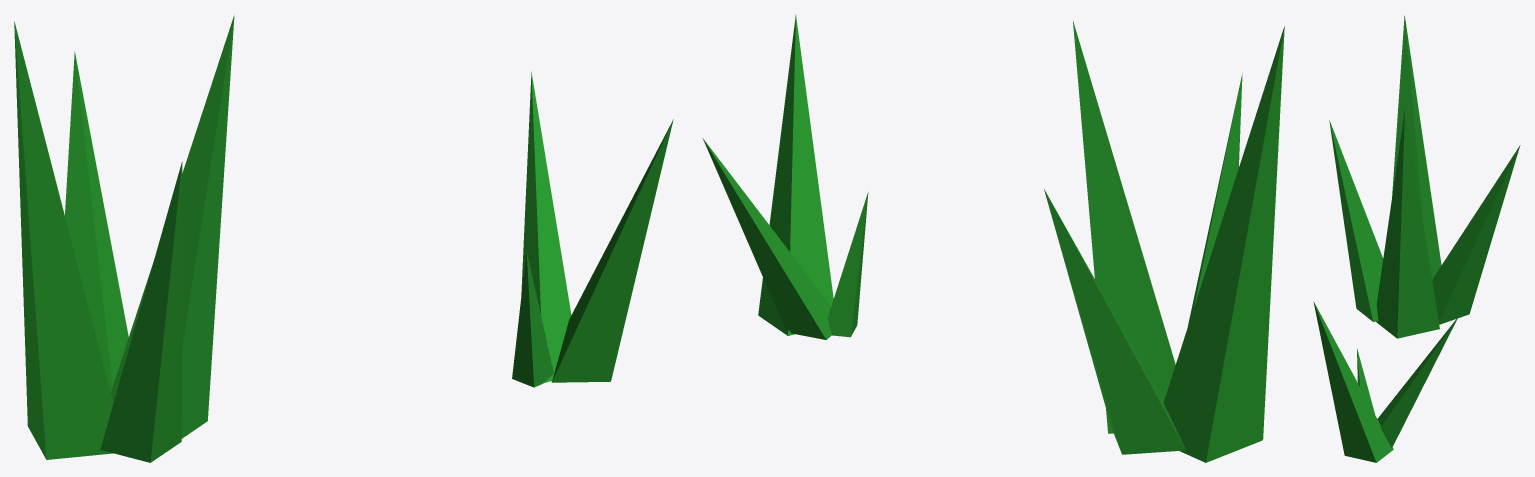
Rendered from grama.fbx.
3 views of the same model, side by side, from view 1: azimuth 30°, elevation 25°; view 2: azimuth 150°, elevation 25°; view 3: azimuth 270°, elevation 25° (orthographic). The views are drawn at different scales.
Visible parts, largest first — view 1: Cone.001, Cone, Cone.002, Cone.005, Cone.003, Cone.004, Cone.006; view 2: Cone.001, Cone, Cone.003, Cone.005, Cone.004, Cone.006, Cone.002; view 3: Cone, Cone.003, Cone.005, Cone.002, Cone.001, Cone.004, Cone.006.
Boxes of the visible parts, left/top/right/bottom form: Cone.001: left=14, top=21, right=113, bottom=459; Cone: left=110, top=14, right=234, bottom=438; Cone.002: left=100, top=161, right=182, bottom=462; Cone.005: left=551, top=119, right=673, bottom=382; Cone.003: left=65, top=51, right=128, bottom=391; Cone.004: left=521, top=71, right=571, bottom=382; Cone.006: left=512, top=251, right=553, bottom=387; Cone.001: left=1163, top=26, right=1284, bottom=462; Cone: left=1073, top=21, right=1175, bottom=433; Cone.003: left=1044, top=189, right=1185, bottom=454; Cone.005: left=758, top=15, right=833, bottom=335; Cone.004: left=702, top=138, right=831, bottom=339; Cone.006: left=827, top=192, right=868, bottom=337; Cone.002: left=1187, top=74, right=1242, bottom=326; Cone: left=1376, top=110, right=1439, bottom=338; Cone.003: left=1432, top=145, right=1520, bottom=324; Cone.005: left=1313, top=301, right=1393, bottom=462; Cone.002: left=1329, top=120, right=1383, bottom=321; Cone.001: left=1392, top=15, right=1441, bottom=279; Cone.004: left=1377, top=316, right=1458, bottom=447; Cone.006: left=1357, top=348, right=1375, bottom=414.
Bounding box in the file's own units: 308 × 231 × 156.
